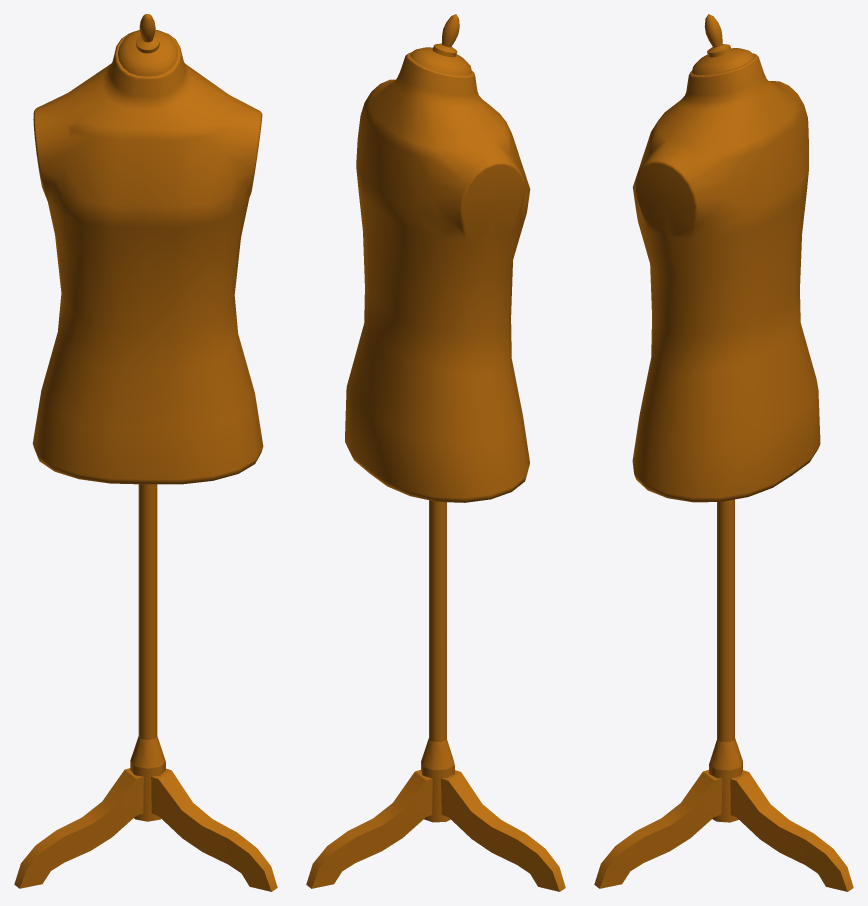
File: Ma-no-canh (4.2, 6.1, 0.3).glb
The picture shows the model from 3 angles, left to right: view 1: azimuth 30°, elevation 25°; view 2: azimuth 150°, elevation 25°; view 3: azimuth 270°, elevation 25°; orthographic projection.
Visible parts, largest first — view 1: Dress.002; view 2: Dress.002; view 3: Dress.002.
Part boxes in pixels (x1,y1,x2,y2): Dress.002: (14,14,277,891); Dress.002: (306,14,565,891); Dress.002: (594,14,853,891).
Size of the model in its own units: 0.5071 by 1.85 by 0.5184.
